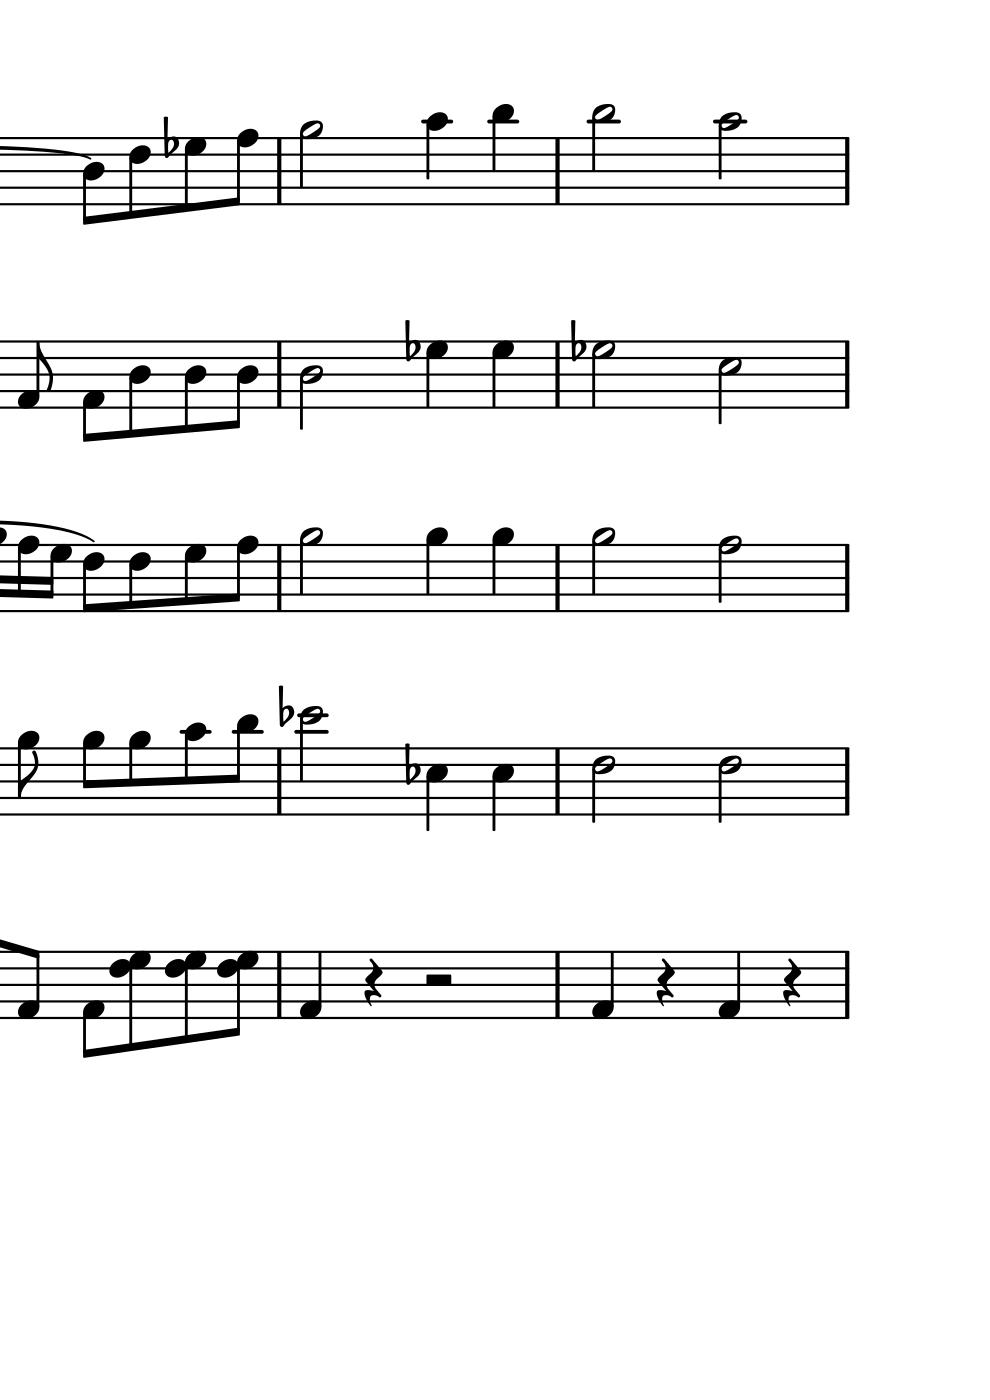16_7: (41, 542, 72, 616)
16_8: (15, 535, 39, 615)
2_10: (715, 110, 747, 206)
2_11: (587, 104, 619, 207)
2_12: (296, 706, 324, 818)
2_4: (296, 338, 322, 433)
2_5: (715, 338, 742, 427)
2_6: (589, 746, 616, 827), (716, 746, 742, 827)
2_7: (589, 338, 618, 411)
2_8: (297, 119, 325, 205), (716, 533, 742, 613)
2_9: (296, 526, 324, 614), (589, 525, 615, 615)
4_1: (715, 949, 742, 1021), (588, 950, 616, 1021), (298, 950, 324, 1021)
4_10: (419, 110, 454, 207)
4_11: (487, 102, 519, 207)
4_5: (489, 746, 514, 833), (423, 746, 448, 836)
4_7: (421, 338, 450, 413), (489, 340, 516, 411)
4_9: (489, 527, 516, 613), (423, 527, 449, 614)
8_1: (79, 948, 105, 1062), (80, 340, 106, 445), (17, 340, 55, 411), (16, 946, 42, 1023)
8_10: (180, 722, 212, 818)
8_11: (225, 714, 262, 817)
8_4: (225, 338, 259, 430), (126, 338, 152, 439), (182, 338, 207, 435), (80, 137, 104, 227)
8_6: (126, 137, 150, 220), (126, 542, 151, 615), (81, 544, 105, 616)
8_7: (180, 543, 207, 614), (184, 136, 206, 213)
8_7_8: (110, 949, 152, 1053), (164, 948, 207, 1047), (215, 947, 259, 1038)
8_8: (227, 127, 259, 207), (229, 535, 261, 613)
8_9: (125, 731, 153, 818), (79, 731, 107, 816), (14, 731, 40, 819)
Flat: (569, 318, 587, 363), (160, 116, 178, 159), (403, 320, 421, 362), (277, 682, 294, 729), (403, 743, 420, 786)
Rests2: (421, 970, 454, 992)
Rests4: (778, 957, 801, 1010), (362, 955, 382, 1010), (655, 959, 676, 1007)
Single_barline: (837, 950, 857, 1020), (837, 747, 857, 815), (547, 544, 568, 612), (837, 544, 857, 612), (547, 138, 568, 204), (837, 341, 856, 408), (270, 544, 289, 612), (837, 138, 856, 205), (547, 952, 567, 1019), (547, 749, 567, 813), (549, 341, 567, 408), (271, 137, 289, 204), (271, 341, 288, 408), (271, 749, 288, 814), (273, 953, 288, 1020)
